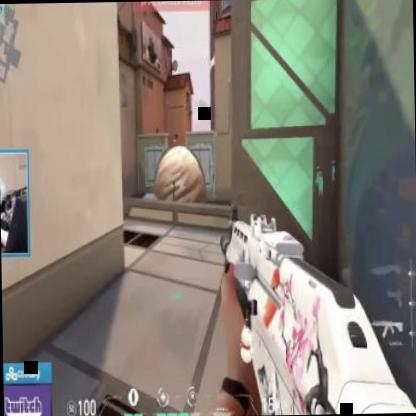enemy: (170, 174, 176, 202)
enemy_head: (171, 174, 174, 180)
